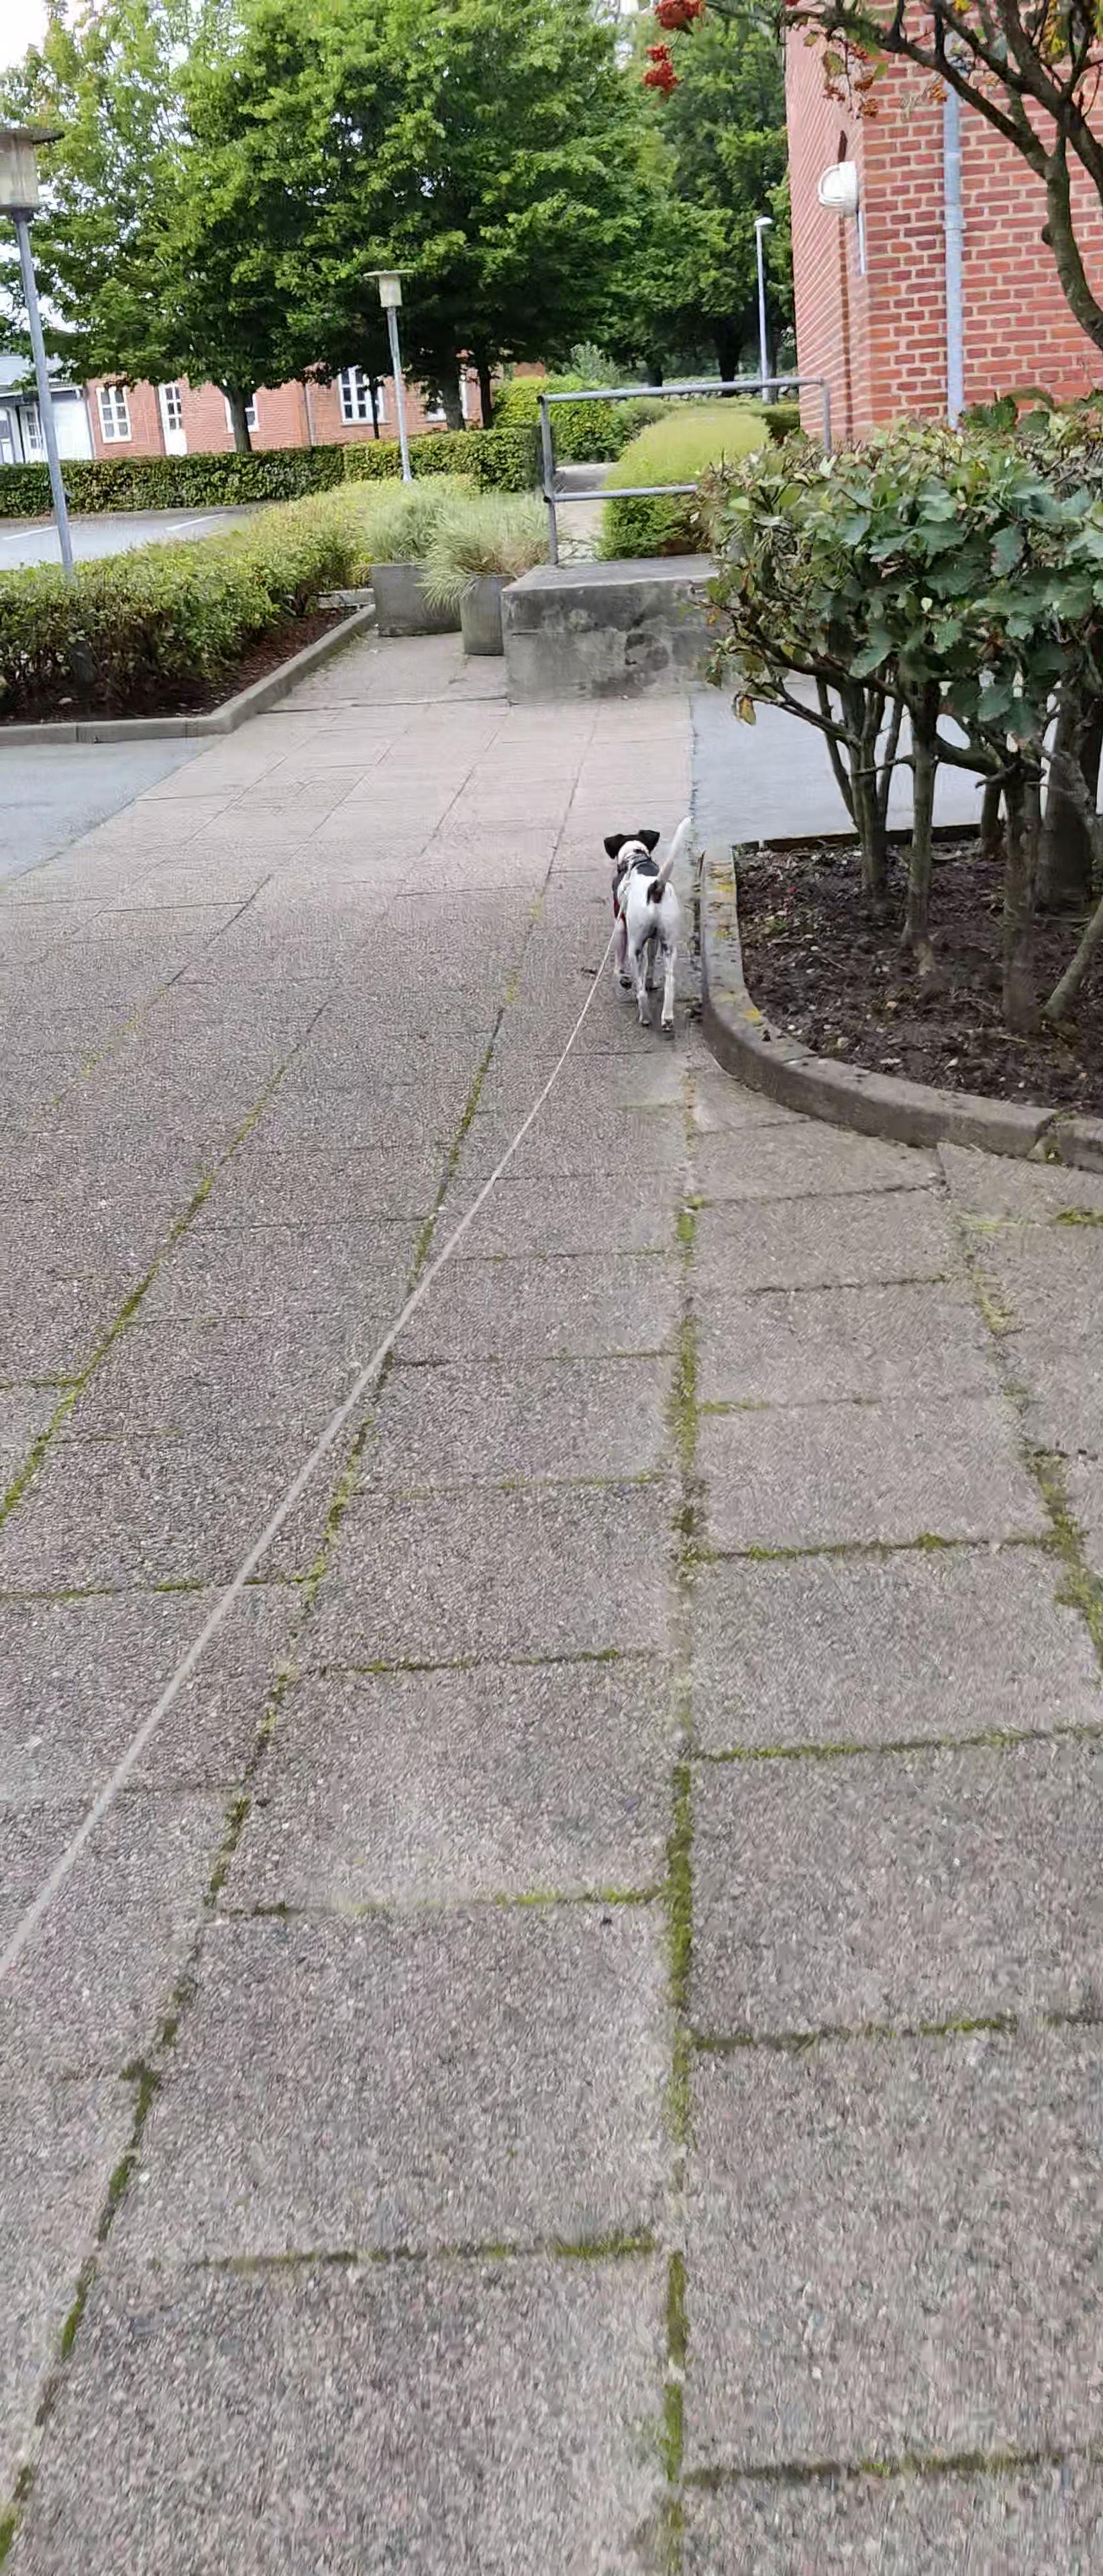Dog: (600, 812, 697, 1032)
